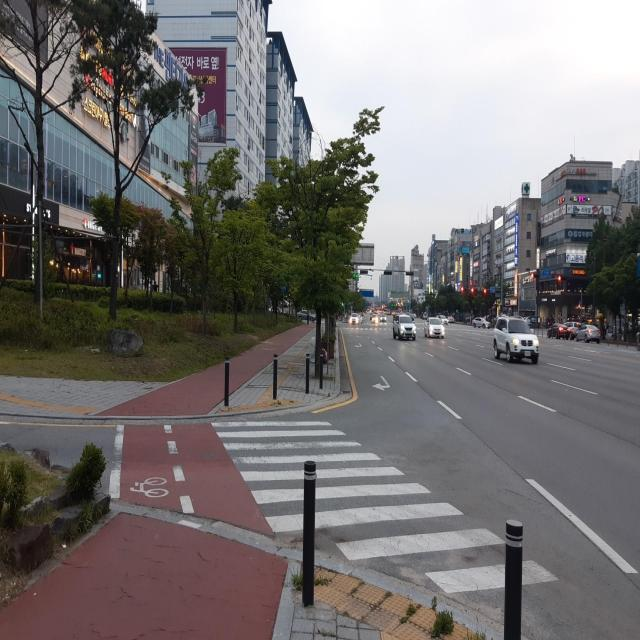횡단보도: (209, 417, 561, 597)
